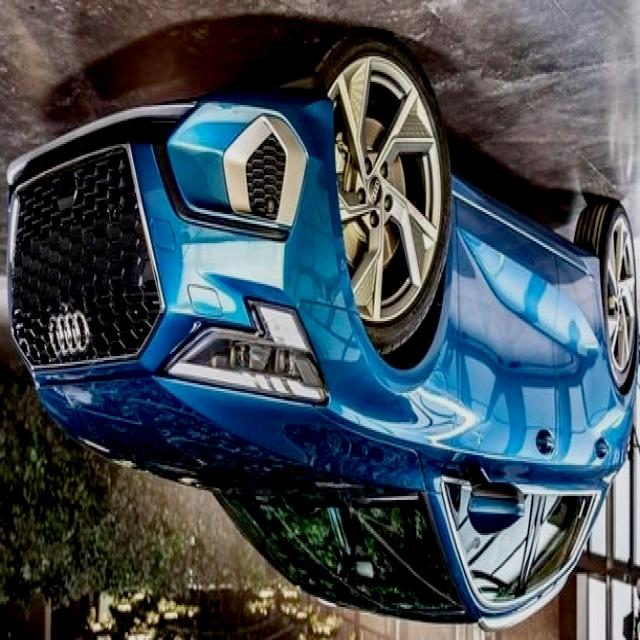blue: (0, 68, 636, 640)
